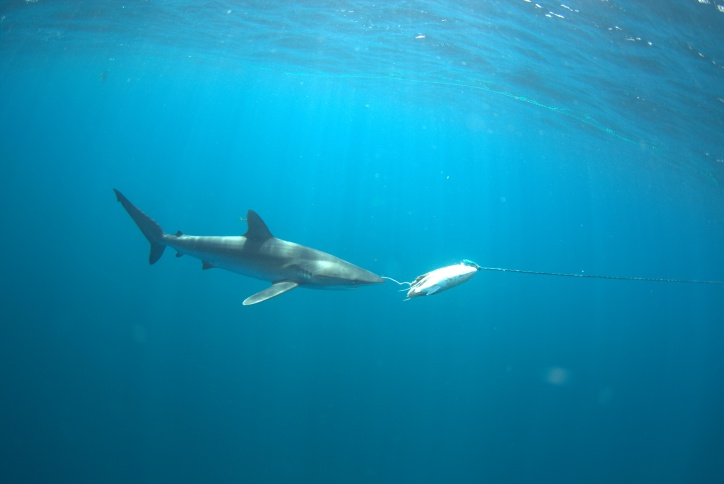Sedoso: (96, 173, 395, 322)
